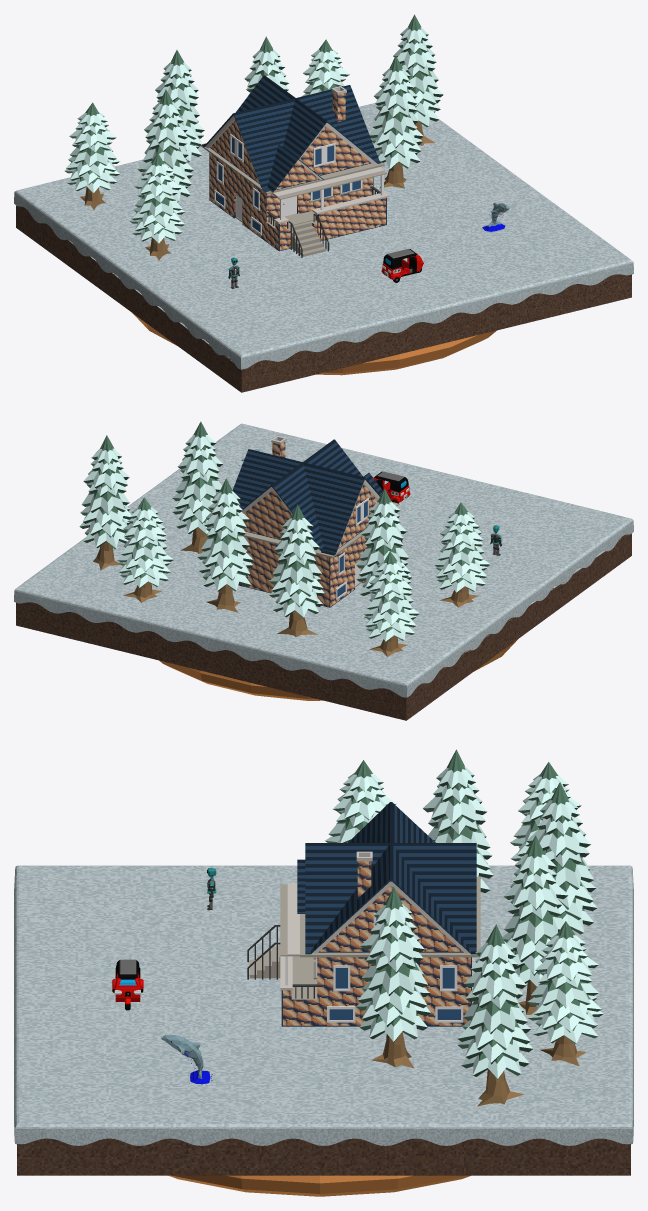
The picture shows the model from 3 angles, top to bottom: view 1: azimuth 30°, elevation 25°; view 2: azimuth 150°, elevation 25°; view 3: azimuth 270°, elevation 25°; orthographic projection. The views are drawn at different scales.
Visible parts, largest first — view 1: Cube.003, Cube.430, UNDERGROUND_PIZZA, VEHICLES_TUC_TUC; view 2: Cube.003, Cube.430, UNDERGROUND_PIZZA, VEHICLES_TUC_TUC; view 3: Cube.003, Cube.430, UNDERGROUND_PIZZA, VEHICLES_TUC_TUC, ANIMAL_DELFIN.
Part boxes in pixels (x1,y1,x2,y2): Cube.003: (14, 14, 633, 392); Cube.430: (200, 75, 389, 257); UNDERGROUND_PIZZA: (132, 313, 496, 375); VEHICLES_TUC_TUC: (381, 249, 423, 282); Cube.003: (14, 421, 633, 720); Cube.430: (232, 436, 402, 607); UNDERGROUND_PIZZA: (159, 639, 517, 700); VEHICLES_TUC_TUC: (373, 471, 410, 503); Cube.003: (14, 749, 633, 1175); Cube.430: (247, 802, 480, 1026); UNDERGROUND_PIZZA: (169, 1175, 470, 1196); VEHICLES_TUC_TUC: (112, 959, 143, 1010); ANIMAL_DELFIN: (161, 1035, 212, 1084).
Size of the model in its own units: 4040 by 1904 by 4040.
Materials: 40 (4 with a texture image).
